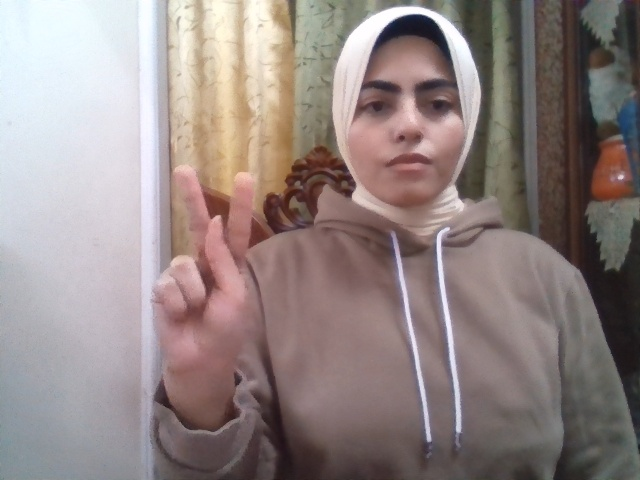K: (149, 165, 256, 386)
